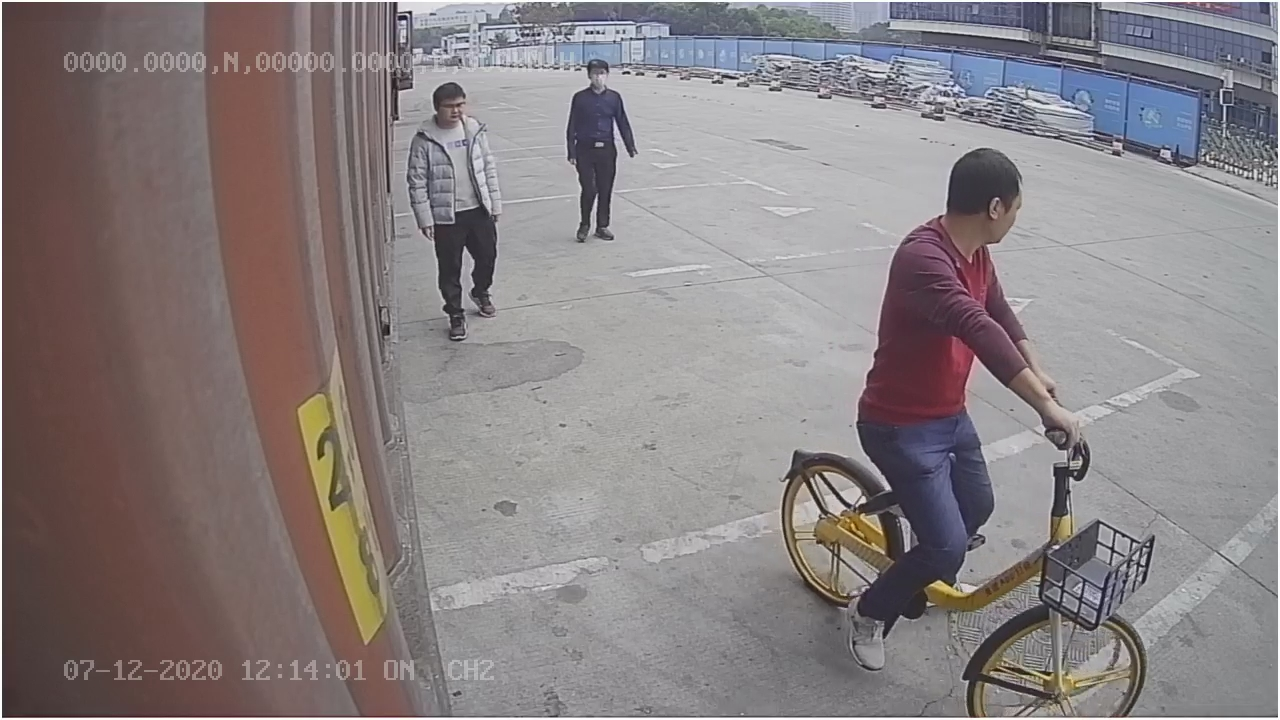person: (404, 84, 508, 344), (548, 52, 648, 253)
